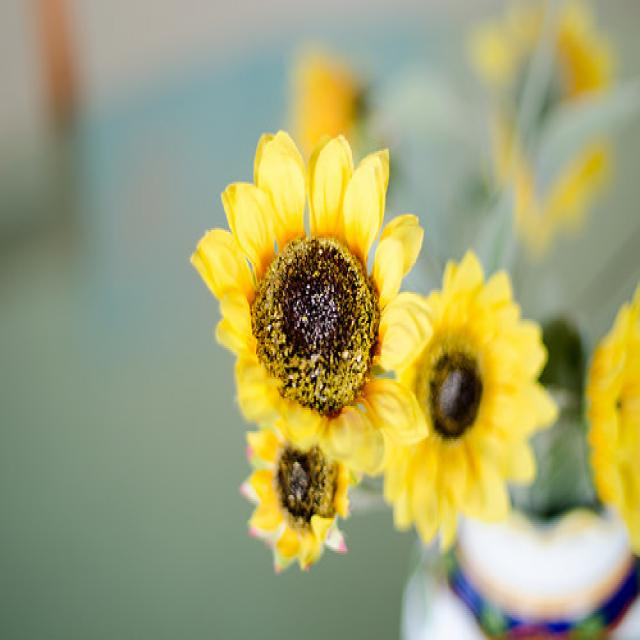sunflower: (194, 122, 429, 480), (385, 256, 555, 540), (241, 419, 353, 569), (584, 289, 640, 549)
